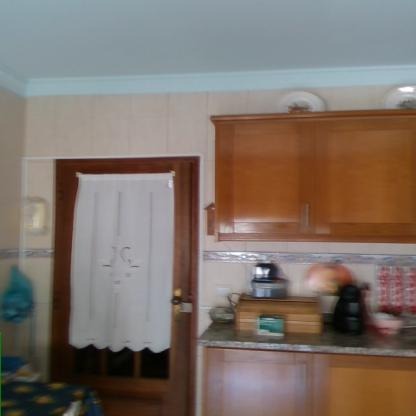closed: (41, 151, 215, 416)
